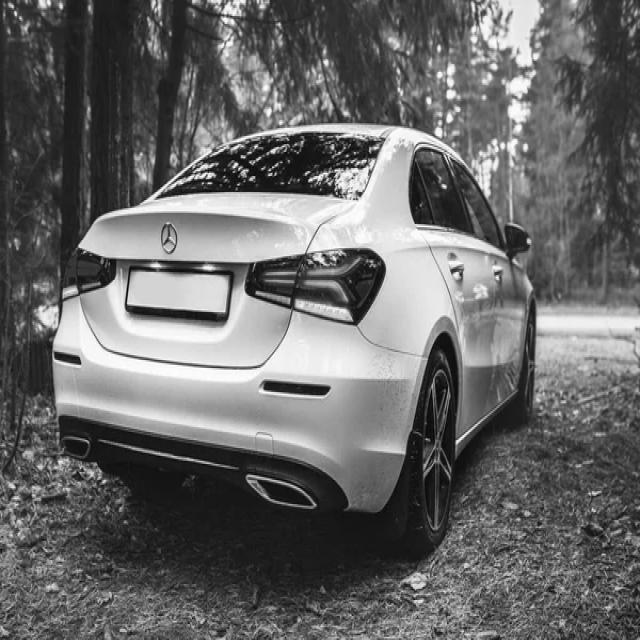Car: (54, 123, 536, 556)
